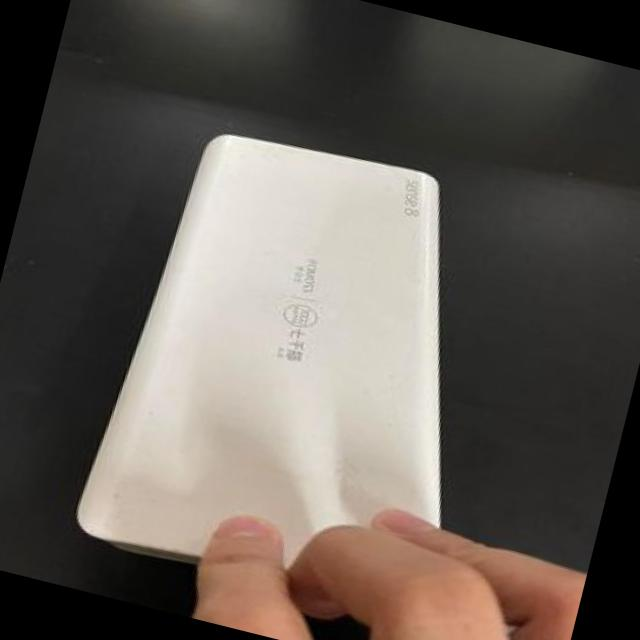power_bank: (57, 104, 524, 640)
